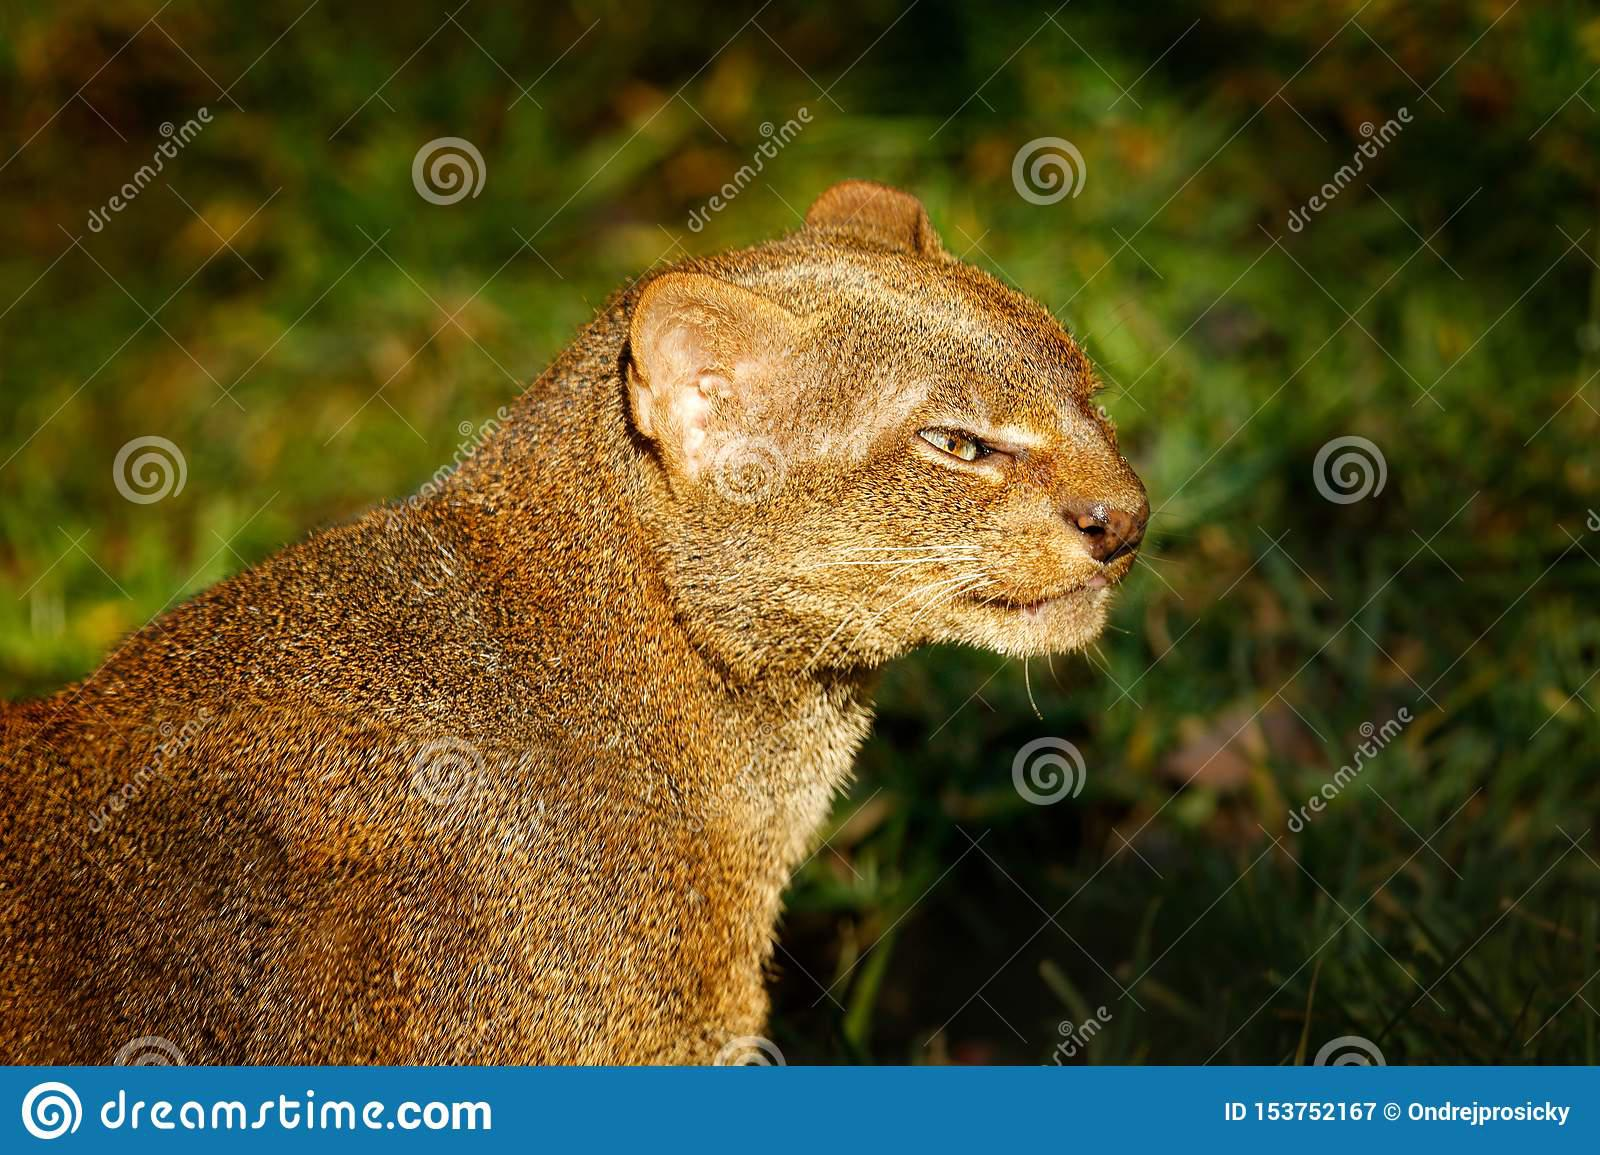Jaguarundi: (12, 171, 1161, 1046)
